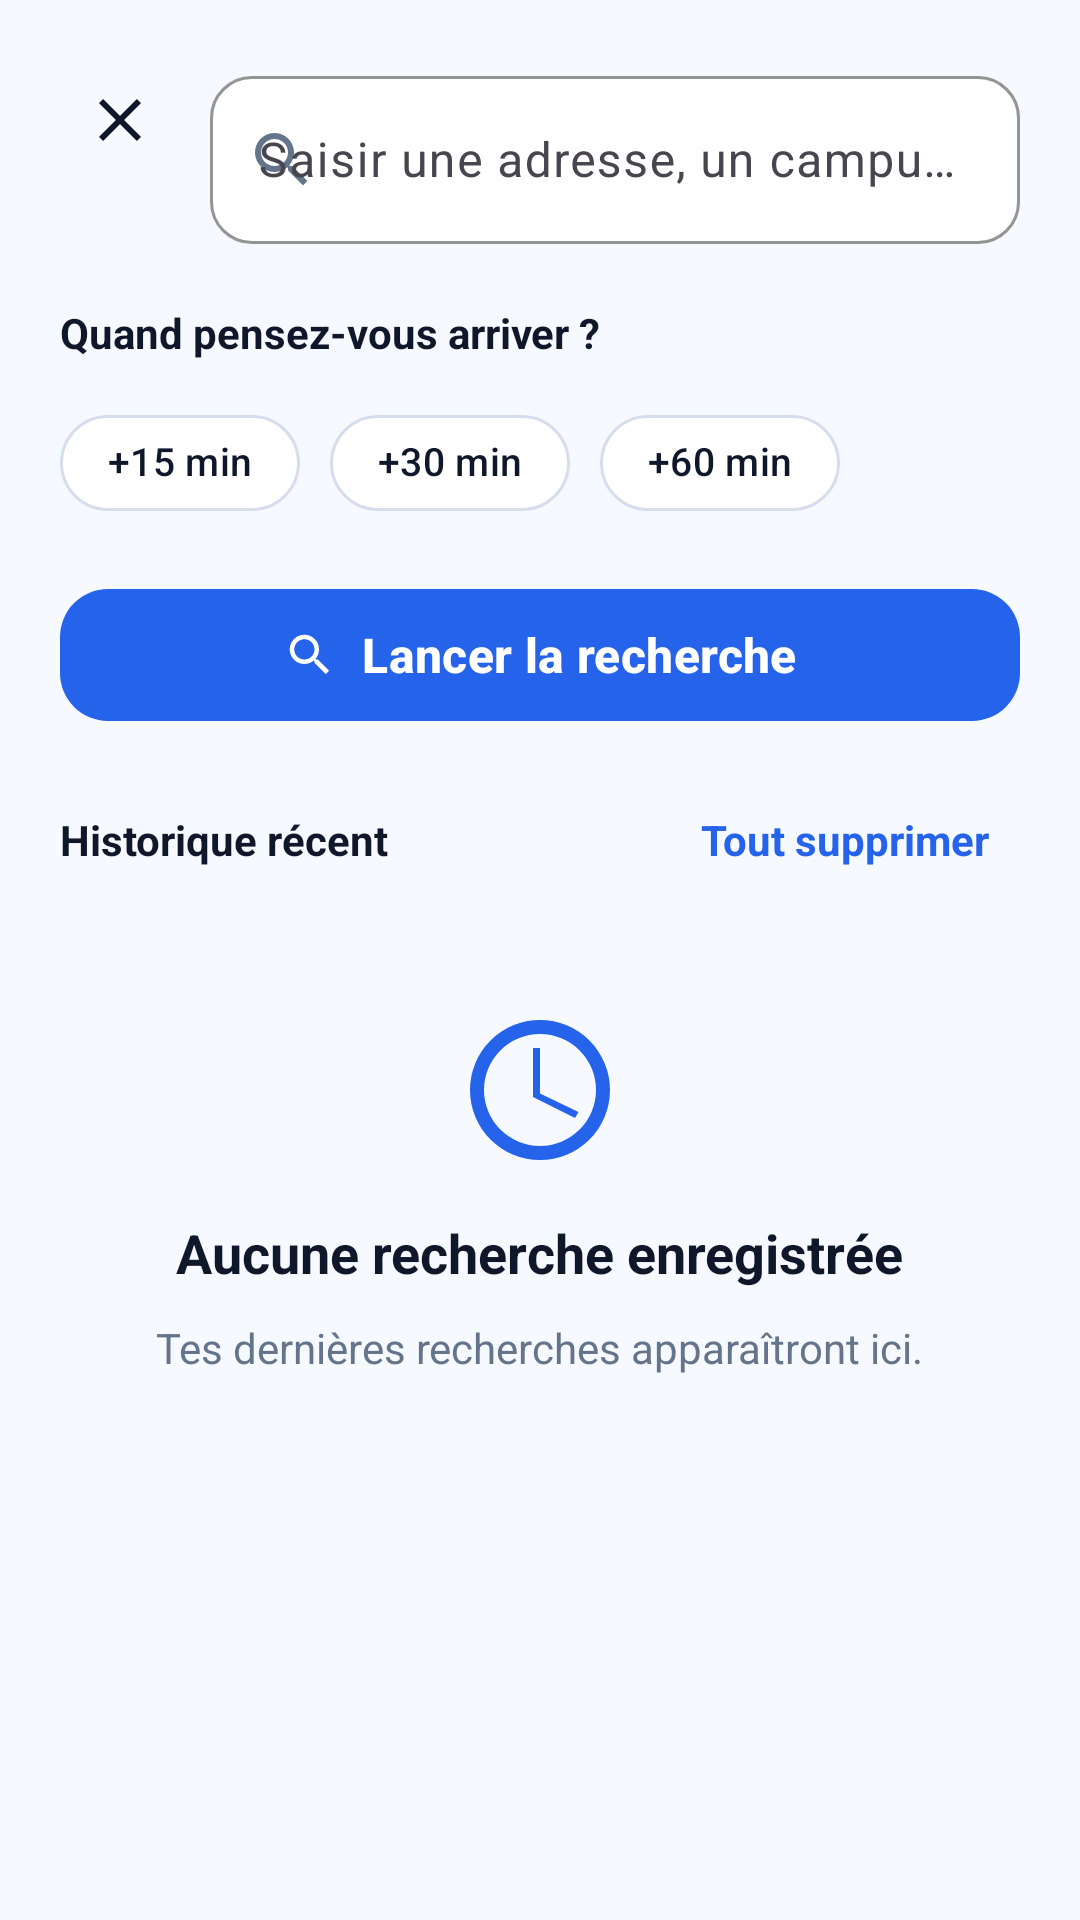

Screen size 1080x1920. Icon name, then its center in pixels as (x=x, y=y):
Fermer: (x=120, y=120)
